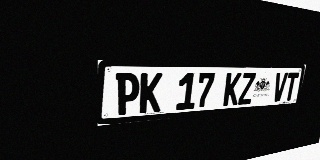1: (176, 73, 198, 110)
7: (195, 73, 215, 109)
K: (139, 73, 163, 113), (223, 73, 242, 106)
P: (115, 73, 140, 116)
T: (283, 72, 299, 101)
V: (272, 73, 288, 102)
Z: (238, 73, 256, 105)
